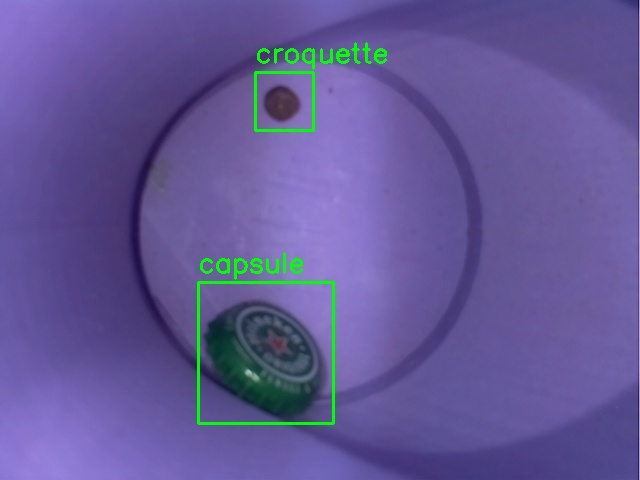capsule: (198, 282, 333, 423)
croquette: (255, 72, 313, 130)
